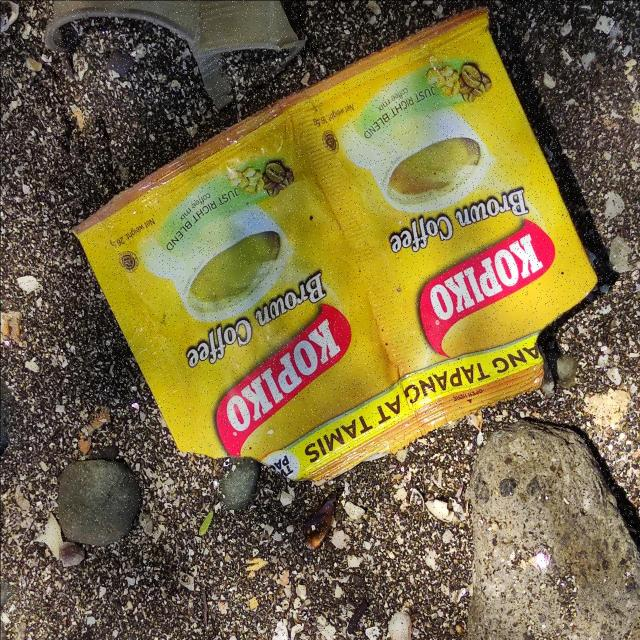plastic_waste: (72, 6, 601, 486), (44, 3, 300, 63)
